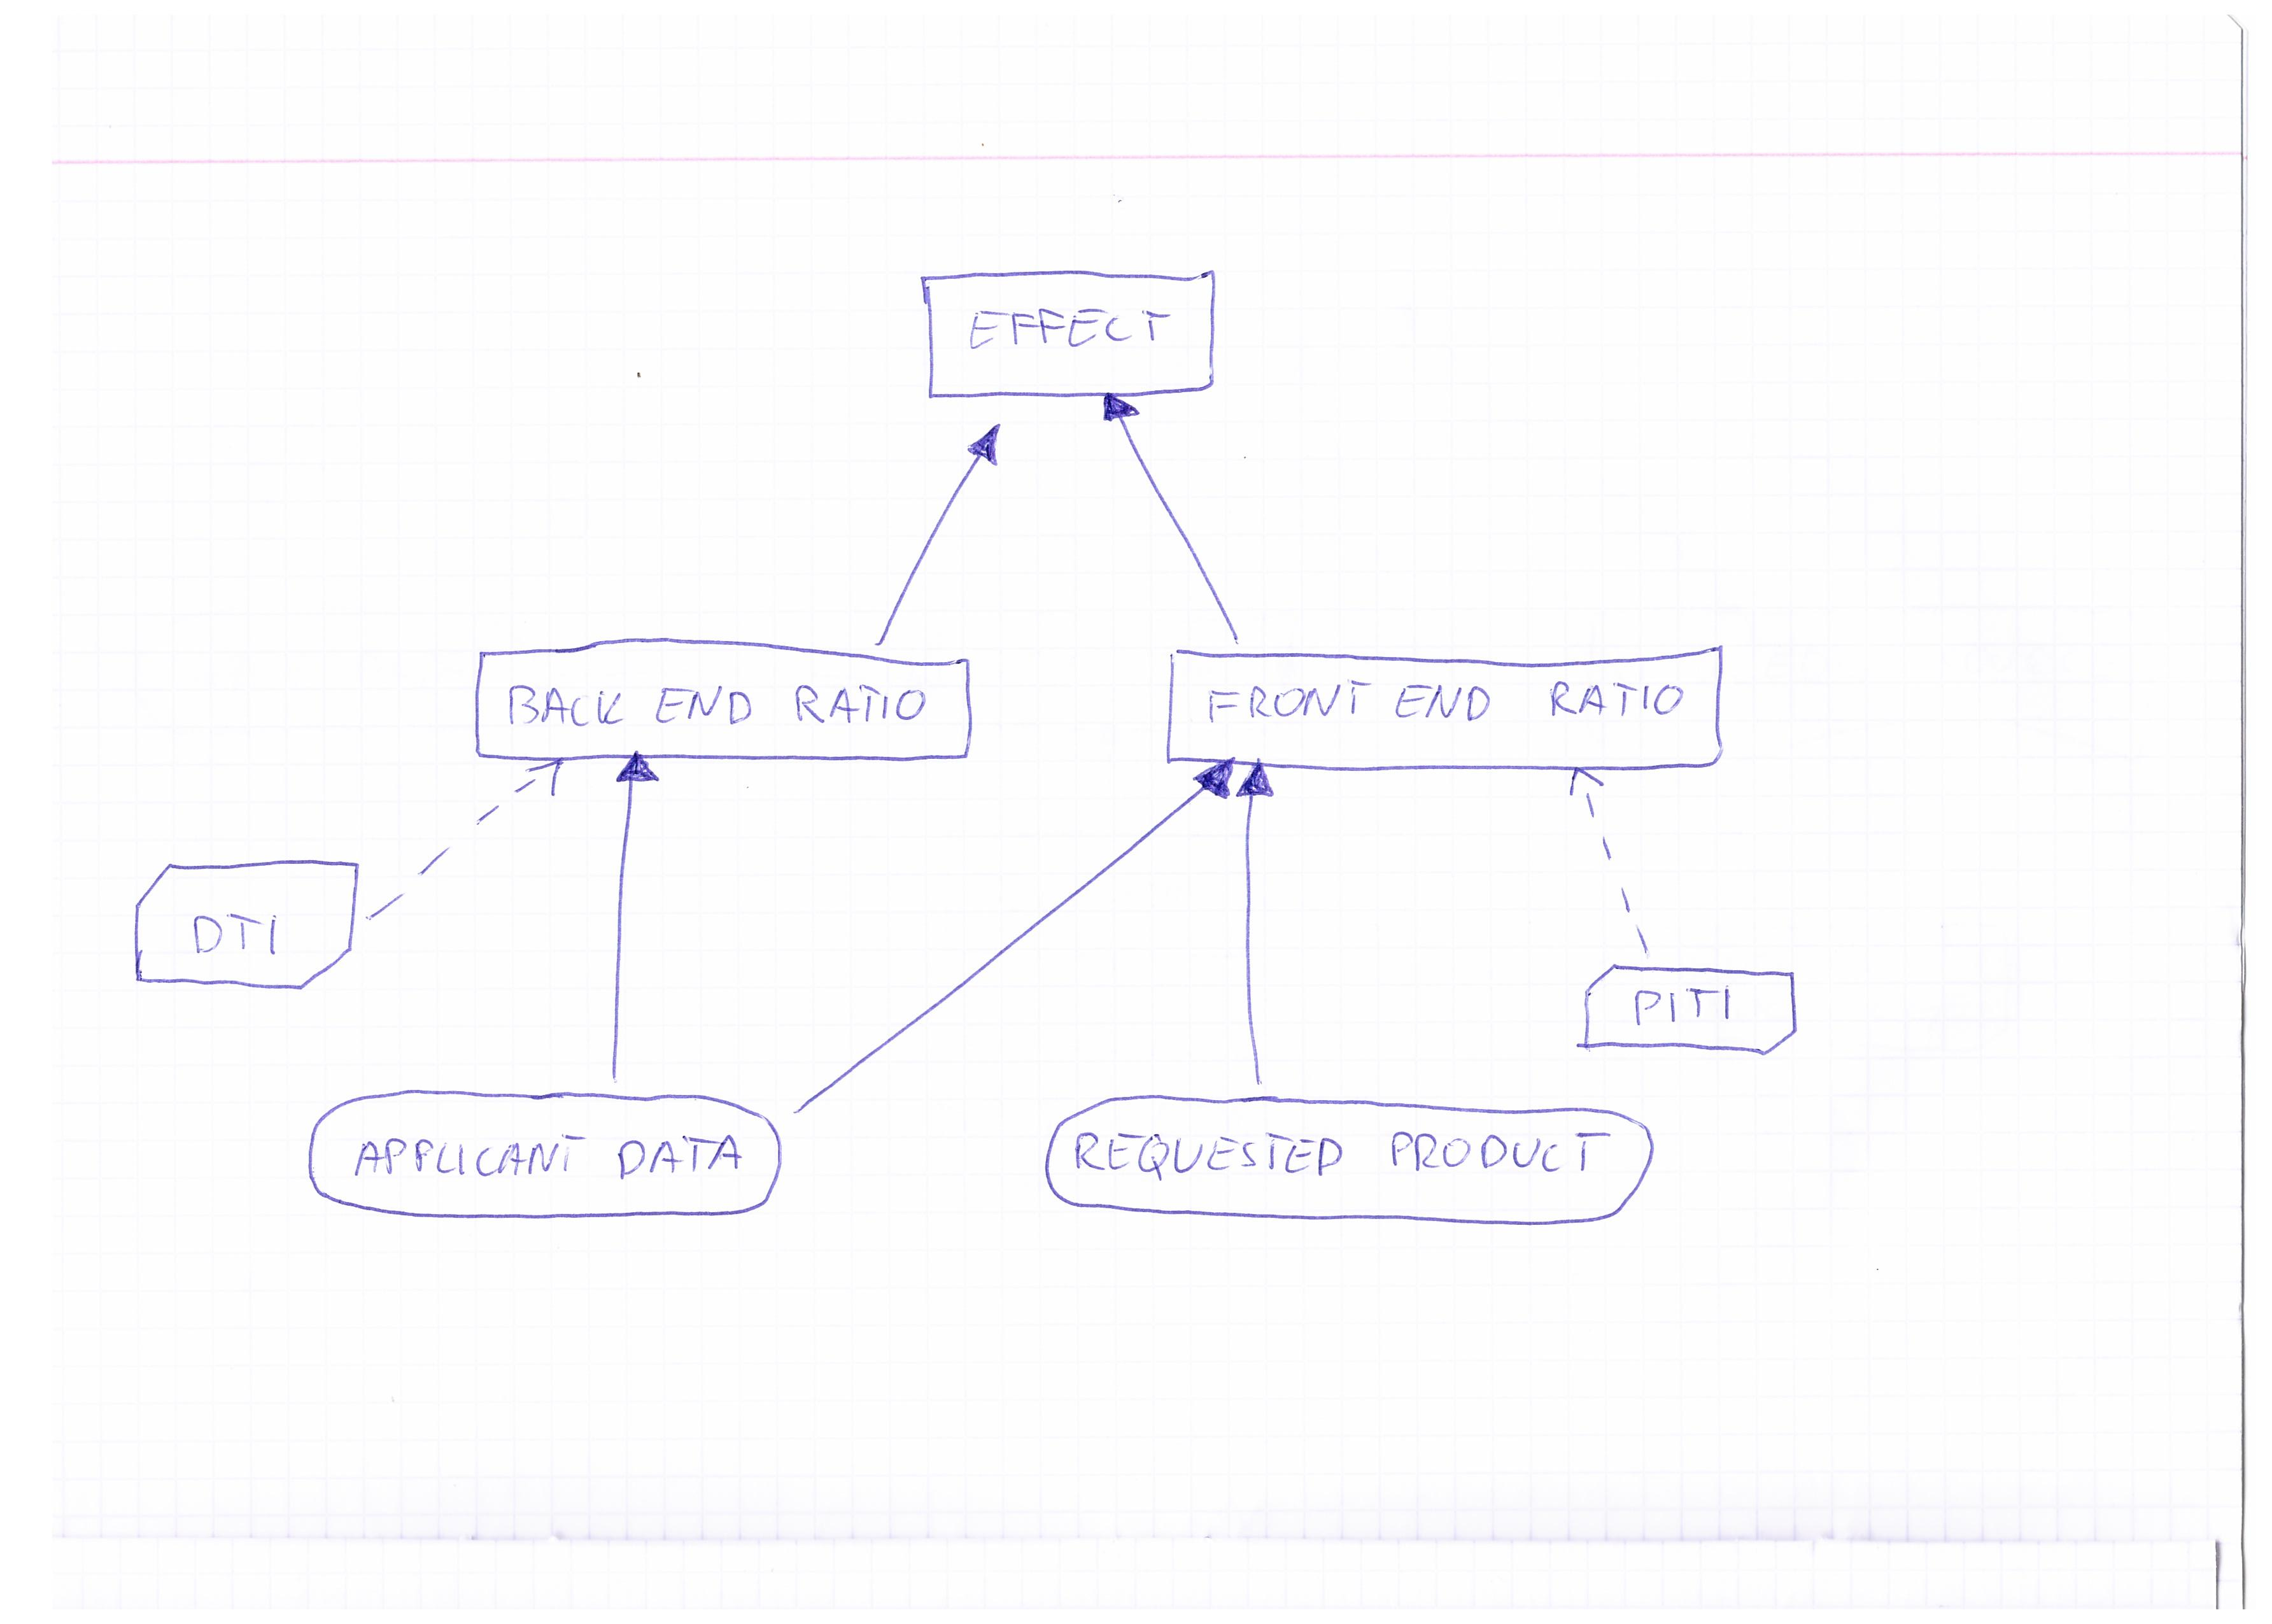arrow_information_requirement: (785, 752, 1241, 1121), (1077, 385, 1248, 650), (857, 415, 1019, 654), (1234, 750, 1277, 1091)
arrow_knowledge_requirement: (362, 749, 573, 932), (1541, 761, 1662, 958)
node_decision: (1146, 640, 1736, 775), (460, 631, 982, 763), (912, 264, 1221, 401)
node_input_data: (1028, 1088, 1671, 1243), (300, 1079, 789, 1232)
node_knowledge_model: (119, 852, 360, 1004), (1574, 958, 1812, 1067)
text: (1068, 1123, 1613, 1199), (1191, 666, 1696, 733), (497, 666, 938, 740), (334, 1123, 750, 1192), (952, 290, 1177, 364), (183, 900, 299, 968), (1617, 975, 1745, 1033)
